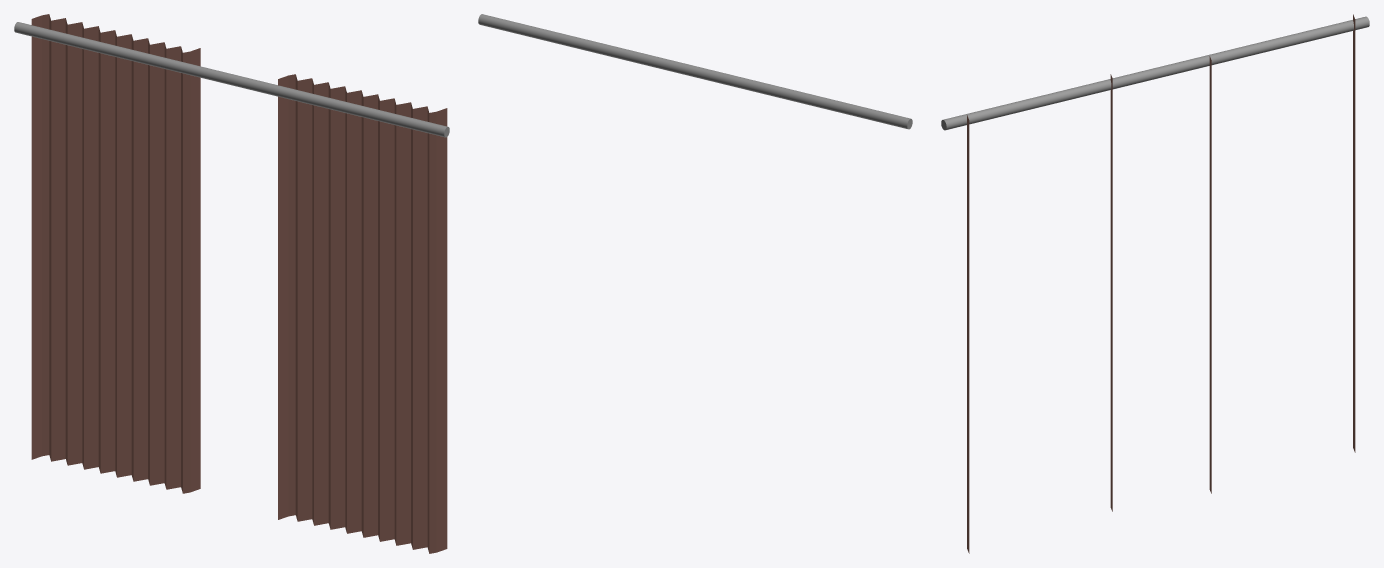
The model's file is 1B9JneFqd-a.glb.
The picture shows the model from 3 angles, left to right: view 1: azimuth 30°, elevation 25°; view 2: azimuth 210°, elevation 25°; view 3: azimuth 270°, elevation 25°; orthographic projection.
Parts seen in each view (by area): view 1: Plane002, Cylinder001; view 2: Cylinder001; view 3: Plane002, Cylinder001.
Boxes of the visible parts, x1=… form: Plane002: x1=31, y1=14, x2=447, y2=553; Cylinder001: x1=14, y1=22, x2=449, y2=137; Cylinder001: x1=478, y1=14, x2=912, y2=129; Plane002: x1=967, y1=14, x2=1355, y2=553; Cylinder001: x1=941, y1=16, x2=1369, y2=130.
Bounding box in the file's own units: 0.5509 × 1 × 0.895.
